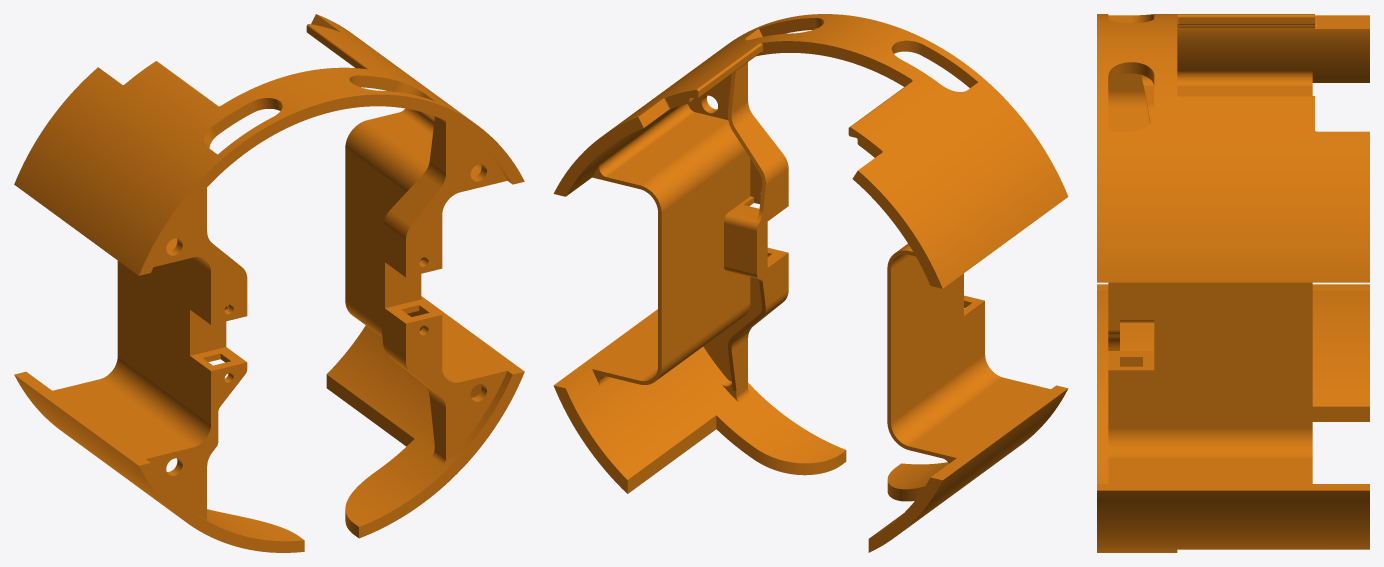
File: Carcaza07.obj
3 renders of one model, left to right at view 1: azimuth 30°, elevation 25°; view 2: azimuth 150°, elevation 25°; view 3: azimuth 270°, elevation 25°, orthographic. The views are drawn at different scales.
Parts seen in each view (by area): view 1: Sólido1; view 2: Sólido1; view 3: Sólido1.
Part boxes in pixels (box(x1,y1,x2,y2)): Sólido1: box(14, 14, 524, 552); Sólido1: box(553, 14, 1068, 552); Sólido1: box(1097, 14, 1369, 552).
Bounding box in the file's own units: 106 × 117 × 59.5.
